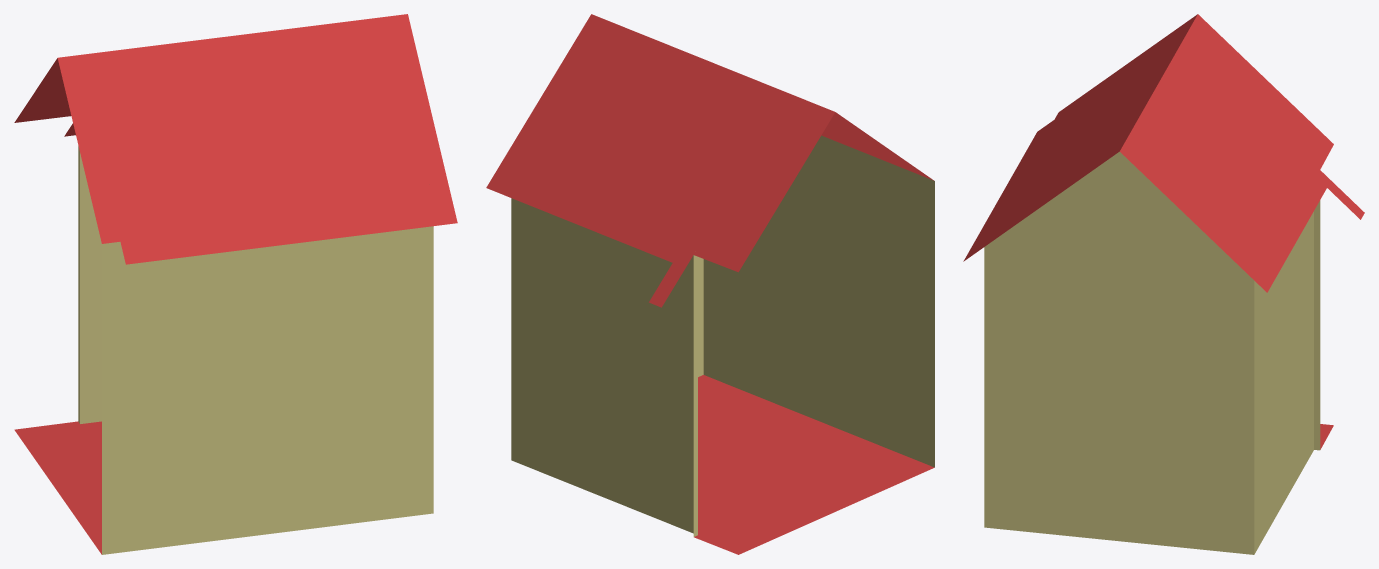
The picture shows the model from 3 angles, left to right: view 1: azimuth 30°, elevation 25°; view 2: azimuth 150°, elevation 25°; view 3: azimuth 270°, elevation 25°; orthographic projection. The views are drawn at different scales.
Size of the model in its own units: 11.16 by 11.37 by 12.4.
